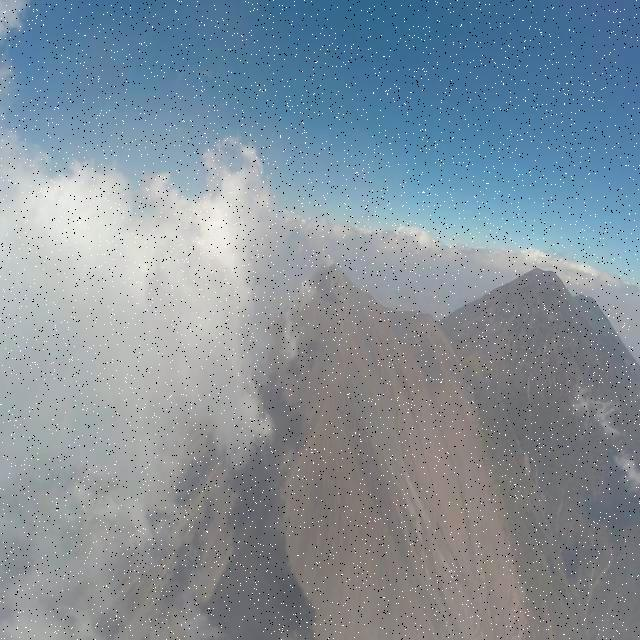Summit: (304, 258, 352, 287)
